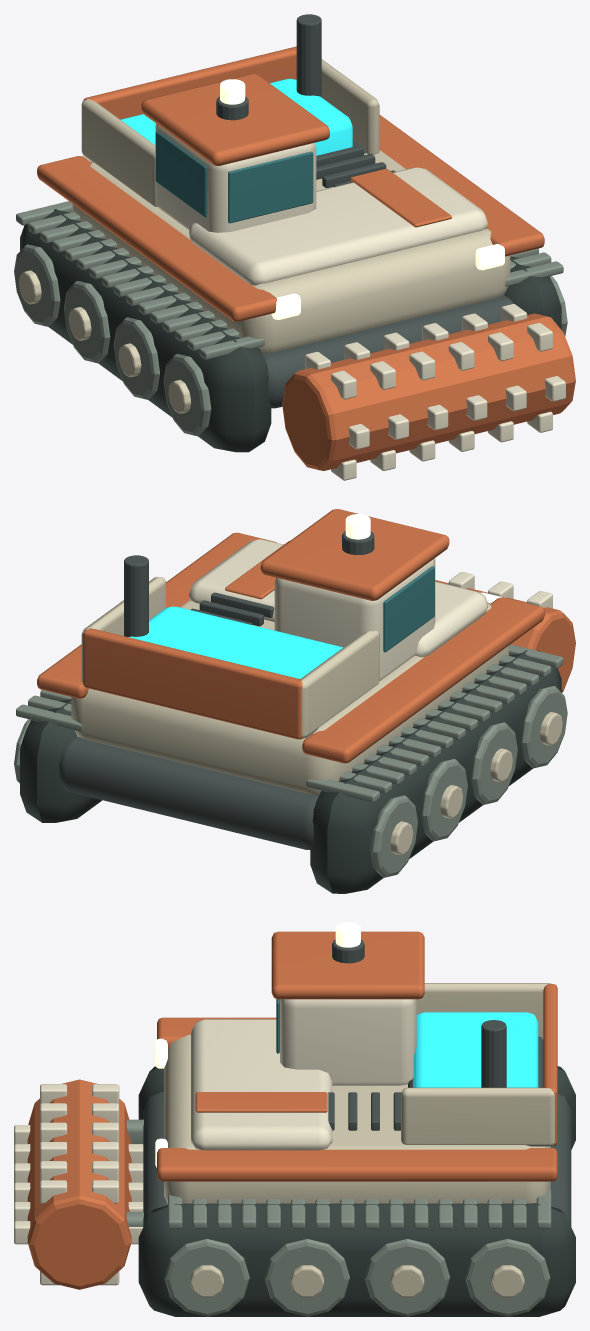
File: harvester.glb
The picture shows the model from 3 angles, top to bottom: view 1: azimuth 30°, elevation 25°; view 2: azimuth 150°, elevation 25°; view 3: azimuth 270°, elevation 25°; orthographic projection.
Visible parts, largest first — view 1: MainChassis, MiningRotor, LeftTrackAssembly, CargoContainer, LeftTrackTreads, CargoFill, RightTrackAssembly, RightTrackTreads; view 2: MainChassis, LeftTrackAssembly, CargoContainer, LeftTrackTreads, CargoFill, RightTrackAssembly, MiningRotor, RightTrackTreads; view 3: MainChassis, RightTrackAssembly, MiningRotor, CargoContainer, CargoFill, RightTrackTreads, LeftTrackAssembly, MiningArms.
Boxes of the visible parts, left/top/right/bottom form: MainChassis: left=37, top=14, right=544, bottom=408; MiningRotor: left=282, top=304, right=575, bottom=480; LeftTrackAssembly: left=14, top=209, right=271, bottom=452; CargoContainer: left=81, top=46, right=379, bottom=206; LeftTrackTreads: left=16, top=201, right=264, bottom=359; CargoFill: left=120, top=78, right=352, bottom=155; RightTrackAssembly: left=504, top=256, right=567, bottom=336; RightTrackTreads: left=505, top=248, right=563, bottom=286; MainChassis: left=37, top=509, right=544, bottom=849; LeftTrackAssembly: left=310, top=650, right=567, bottom=893; CargoContainer: left=81, top=576, right=379, bottom=739; LeftTrackTreads: left=306, top=644, right=563, bottom=802; CargoFill: left=128, top=606, right=343, bottom=678; RightTrackAssembly: left=14, top=699, right=102, bottom=822; MiningRotor: left=435, top=572, right=575, bottom=692; RightTrackTreads: left=16, top=690, right=82, bottom=731; MainChassis: left=143, top=922, right=571, bottom=1226; RightTrackAssembly: left=138, top=1203, right=575, bottom=1316; MiningRotor: left=14, top=1079, right=143, bottom=1289; CargoContainer: left=401, top=983, right=557, bottom=1146; CargoFill: left=413, top=1012, right=538, bottom=1087; RightTrackTreads: left=168, top=1189, right=551, bottom=1228; LeftTrackAssembly: left=138, top=1066, right=575, bottom=1149; MiningArms: left=126, top=1119, right=143, bottom=1226.
Bounding box in the file's own units: 4.83 × 3.47 × 6.17.
